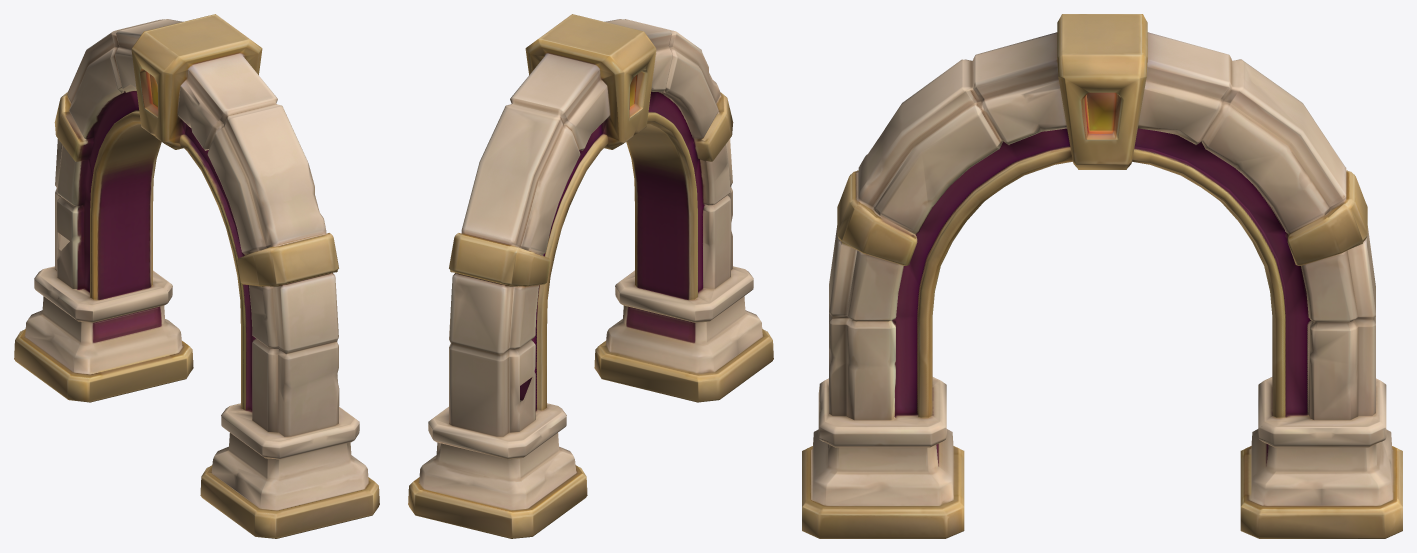
Rendered from tripo_raw.glb.
The picture shows the model from 3 angles, left to right: view 1: azimuth 30°, elevation 25°; view 2: azimuth 150°, elevation 25°; view 3: azimuth 270°, elevation 25°; orthographic projection. The views are drawn at different scales.
Visible parts, largest first — view 1: tripo_node_755d438c-7110-4c83-98b0-6edb04084482; view 2: tripo_node_755d438c-7110-4c83-98b0-6edb04084482; view 3: tripo_node_755d438c-7110-4c83-98b0-6edb04084482.
Part boxes in pixels (left/top/right/bottom): tripo_node_755d438c-7110-4c83-98b0-6edb04084482: left=14, top=14, right=379, bottom=538; tripo_node_755d438c-7110-4c83-98b0-6edb04084482: left=408, top=14, right=773, bottom=538; tripo_node_755d438c-7110-4c83-98b0-6edb04084482: left=802, top=14, right=1402, bottom=538.
Size of the model in its own units: 0.2838 by 0.8611 by 1.
1 material, 1 textured.
